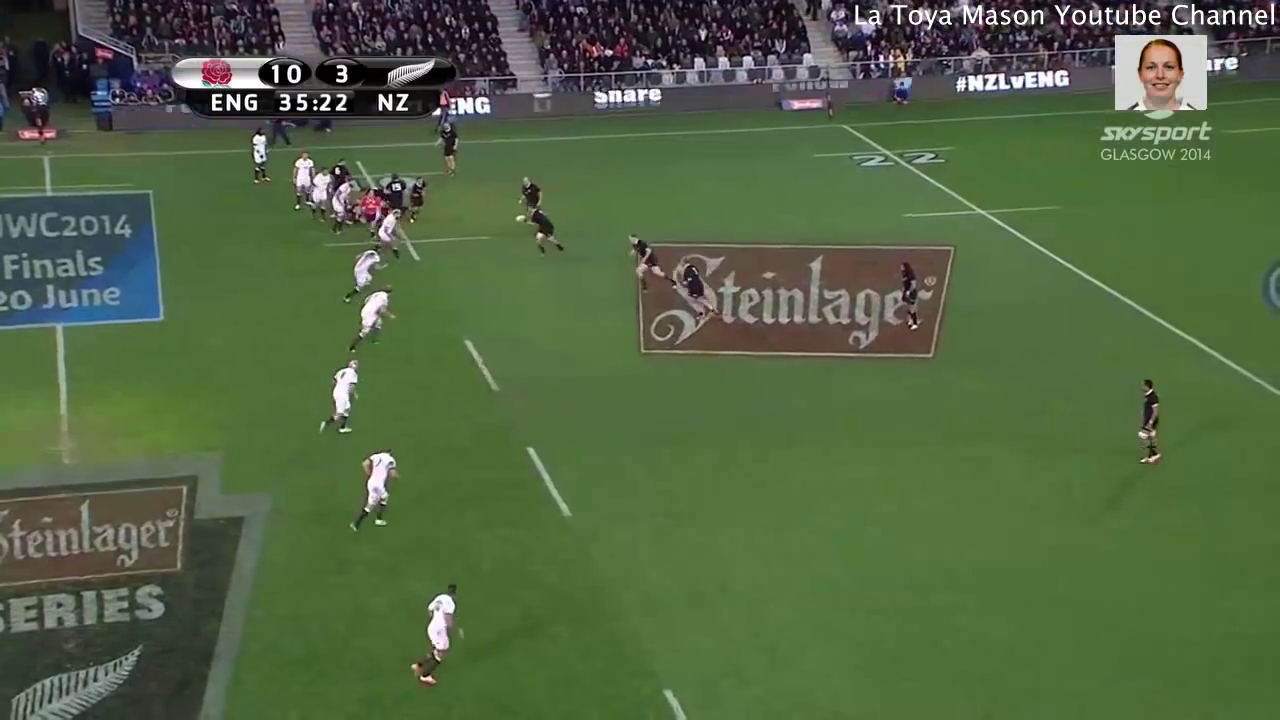10_metre: (320, 224, 497, 262)
ball: (510, 209, 529, 227)
player: (397, 574, 474, 696), (344, 439, 410, 543), (308, 354, 372, 445), (614, 224, 679, 306), (1126, 368, 1174, 476), (344, 276, 403, 360), (674, 251, 728, 340), (885, 253, 938, 341), (337, 244, 403, 307), (511, 198, 573, 263), (240, 115, 280, 188), (369, 201, 410, 266), (508, 171, 553, 228), (287, 143, 317, 218), (305, 159, 337, 227), (433, 120, 467, 179), (351, 184, 386, 241), (329, 175, 357, 237), (381, 166, 414, 217), (404, 168, 430, 229), (329, 148, 351, 190)
